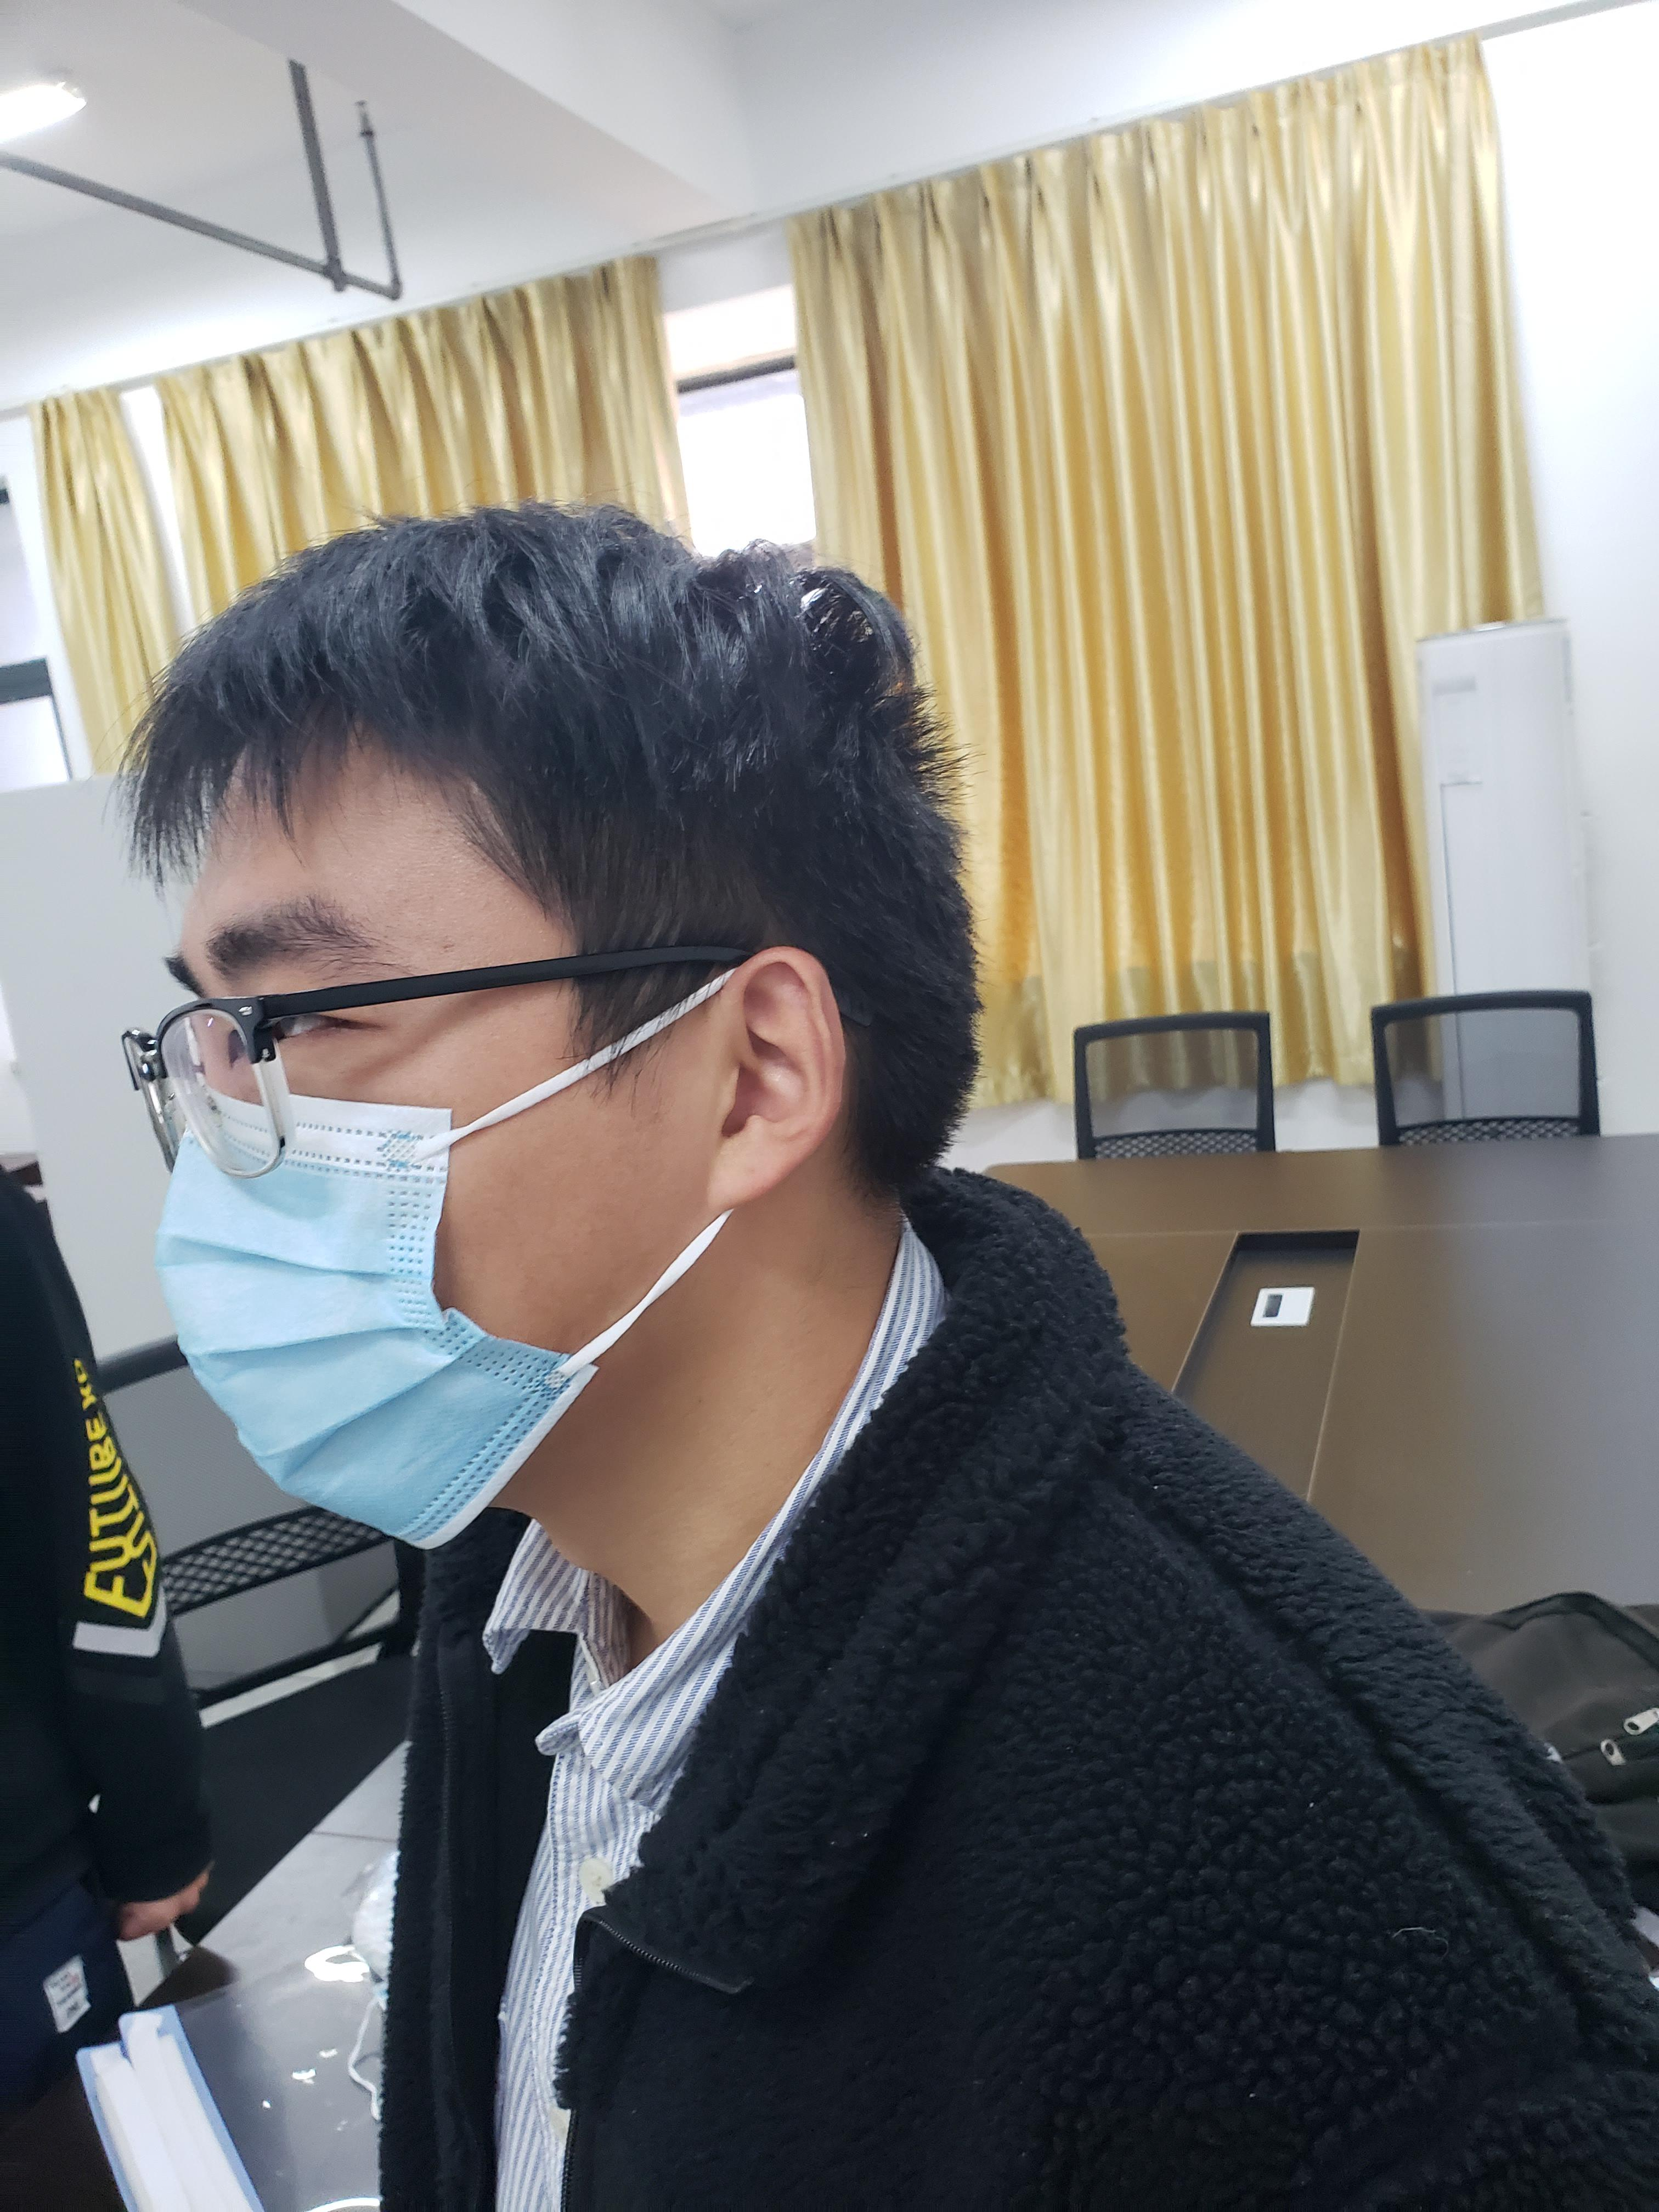Mask: (131, 961, 857, 1557)
